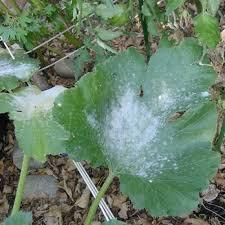powdery_mildew: (30, 47, 216, 211)
